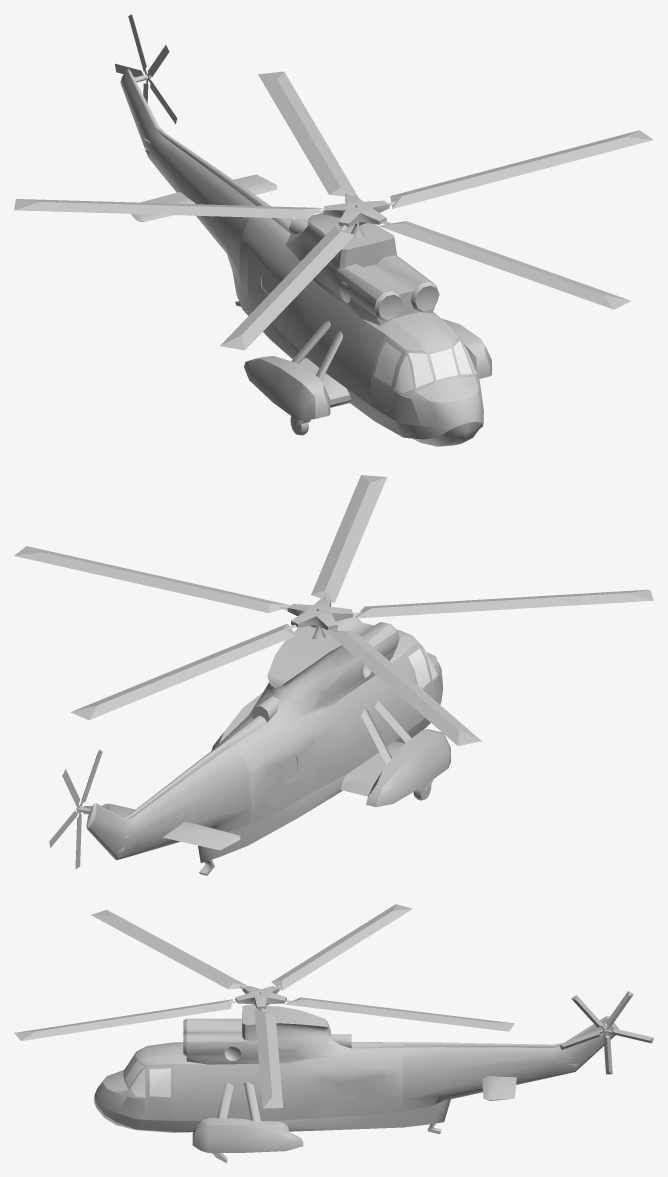
File: Heli.obj
3 views of the same model, one above another, from view 1: azimuth 30°, elevation 25°; view 2: azimuth 150°, elevation 25°; view 3: azimuth 270°, elevation 25° (orthographic). The views are drawn at different scales.
Visible parts, largest first — view 1: chassis, static_rotor, Glass, static_rotor2, door_rf_ok; view 2: chassis, static_rotor, static_rotor2, Glass; view 3: chassis, static_rotor, static_rotor2, Glass, door_lf_ok.
Part boxes in pixels (left/top/right/bottom): chassis: left=120, top=69, right=491, bottom=446; static_rotor: left=14, top=71, right=653, bottom=350; Glass: left=374, top=340, right=477, bottom=393; static_rotor2: left=115, top=14, right=177, bottom=124; door_rf_ok: left=371, top=337, right=405, bottom=418; chassis: left=76, top=607, right=450, bottom=875; static_rotor: left=14, top=475, right=653, bottom=745; static_rotor2: left=49, top=749, right=109, bottom=869; Glass: left=408, top=639, right=436, bottom=688; chassis: left=94, top=991, right=618, bottom=1162; static_rotor: left=14, top=904, right=514, bottom=1108; static_rotor2: left=559, top=991, right=653, bottom=1074; Glass: left=124, top=1055, right=170, bottom=1097; door_lf_ok: left=147, top=1066, right=173, bottom=1120.
Size of the model in its own units: 62.02 by 21.71 by 82.11.
